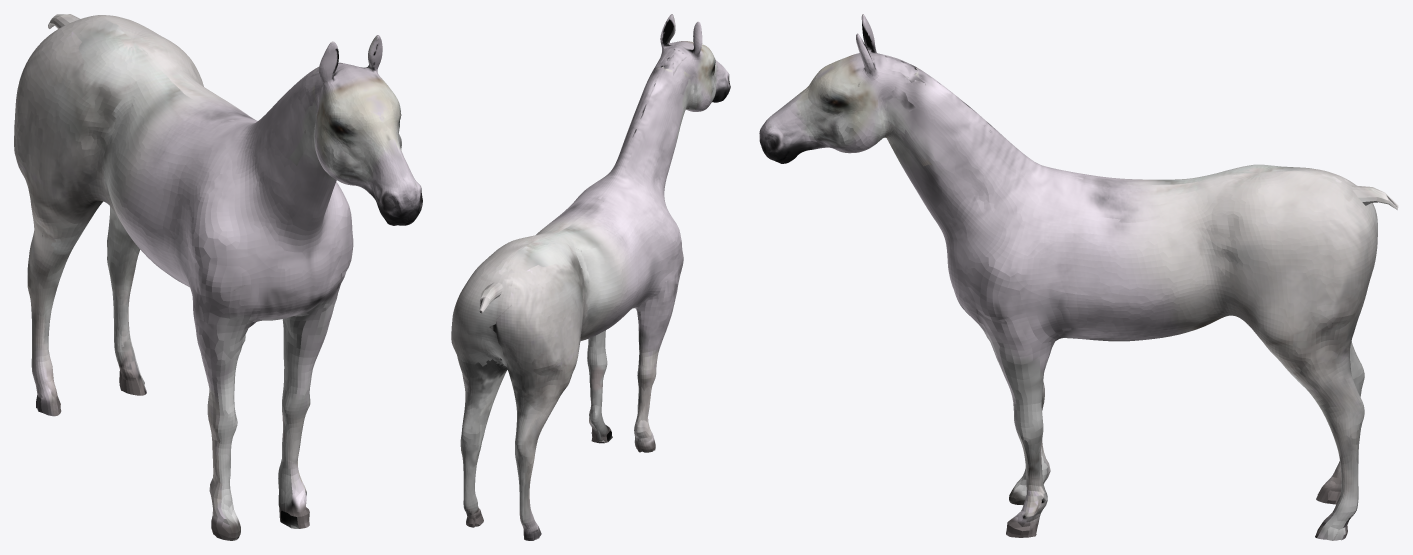
Rendered from uploads_files_5470066_horse-v1.6.0.6.fbx.
The picture shows the model from 3 angles, left to right: view 1: azimuth 30°, elevation 25°; view 2: azimuth 150°, elevation 25°; view 3: azimuth 270°, elevation 25°; orthographic projection. The views are drawn at different scales.
Parts seen in each view (by area): view 1: horseBack-3; view 2: horseBack-3; view 3: horseBack-3.
Part boxes in pixels (x1,y1,x2,y2): horseBack-3: (14,14,422,540); horseBack-3: (451,14,730,540); horseBack-3: (759,14,1398,540).
Size of the model in its own units: 59.92 by 207 by 241.
